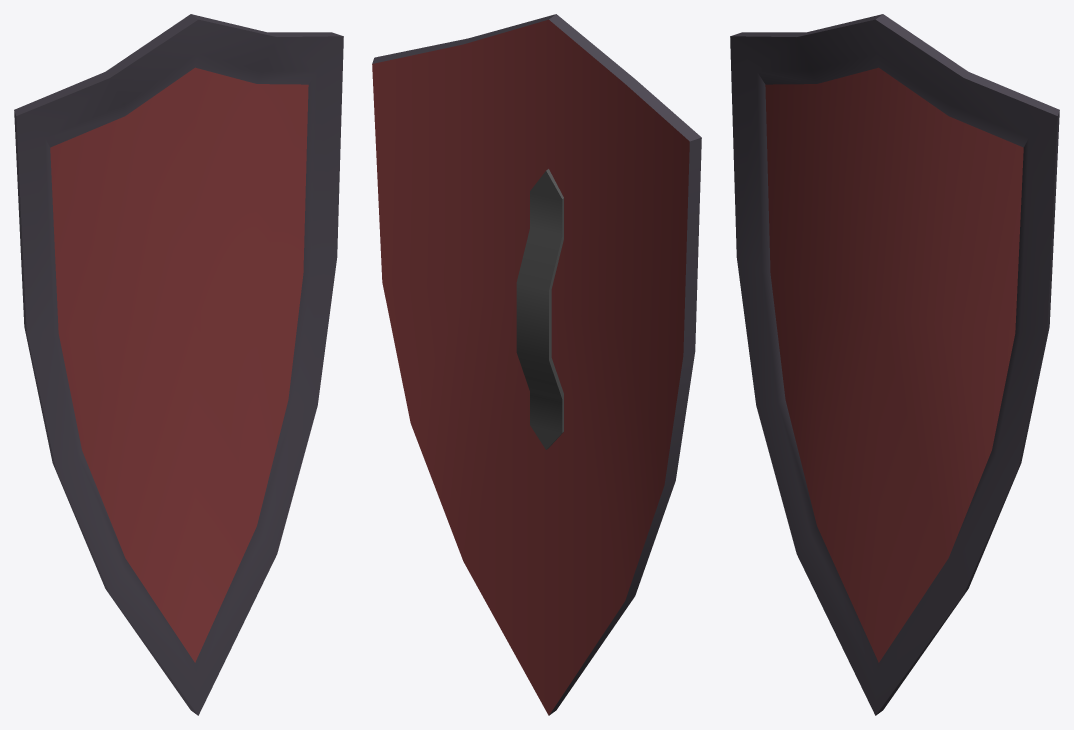
The model's file is Shield_8.fbx.
The picture shows the model from 3 angles, left to right: view 1: azimuth 30°, elevation 25°; view 2: azimuth 150°, elevation 25°; view 3: azimuth 330°, elevation 25°; orthographic projection.
Parts seen in each view (by area): view 1: polySurface237; view 2: polySurface237; view 3: polySurface237.
Boxes of the visible parts, left/top/right/bottom form: polySurface237: left=14, top=14, right=343, bottom=715; polySurface237: left=372, top=14, right=701, bottom=715; polySurface237: left=730, top=14, right=1059, bottom=715.
Size of the model in its own units: 149 by 302 by 20.01.
